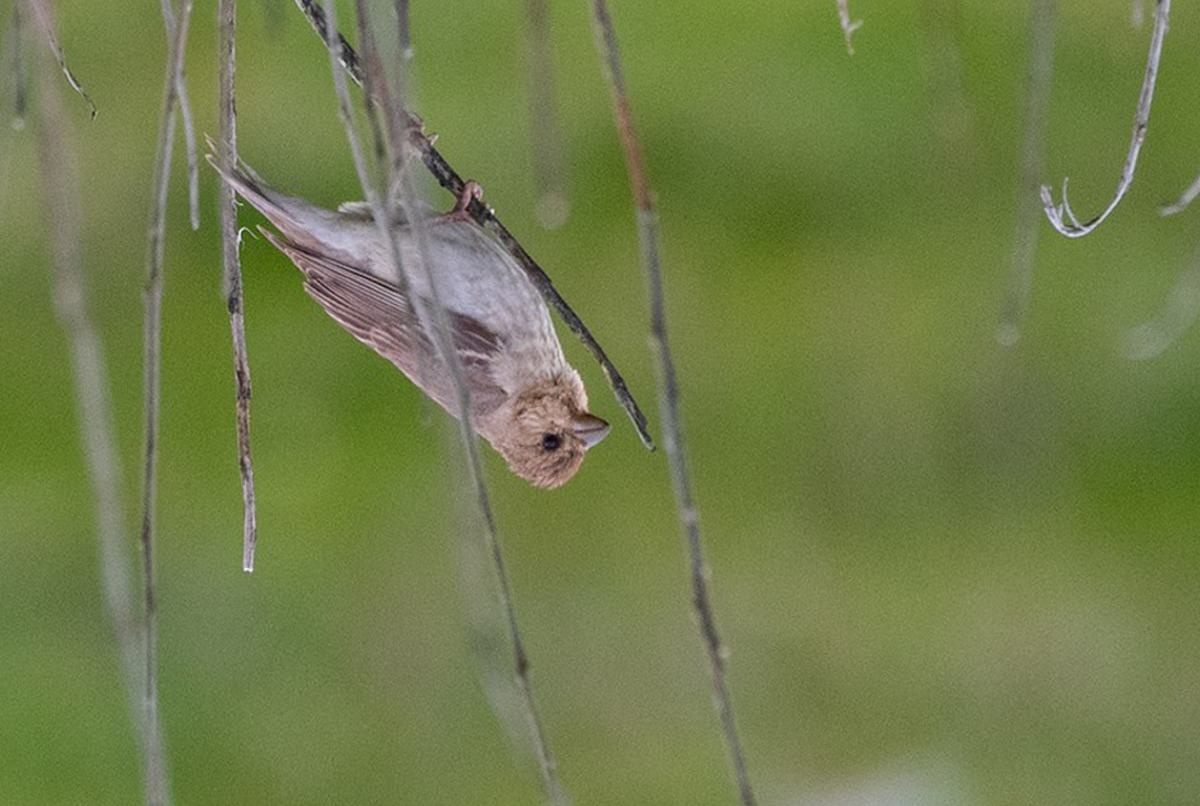rosefinch: (234, 129, 635, 515)
